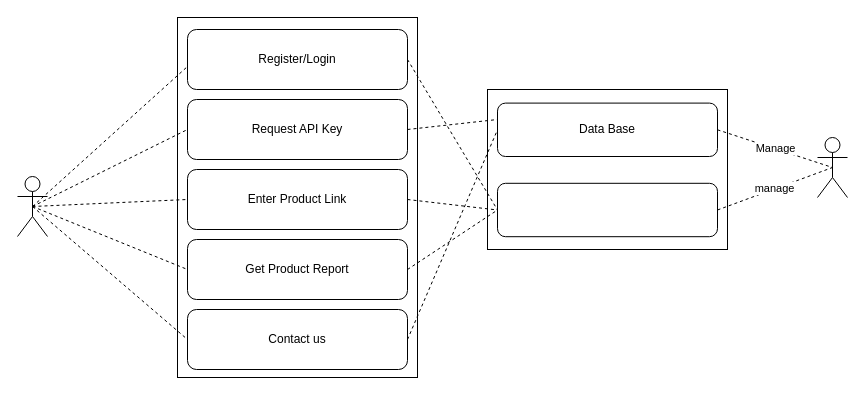
Image size: 867x395. Some labels were removed from this diagram. Each missing label, with the box of its shape:
Actor: (16, 176, 48, 236)
Admin: (816, 136, 848, 198)
Web Scrapper: (496, 182, 718, 237)
